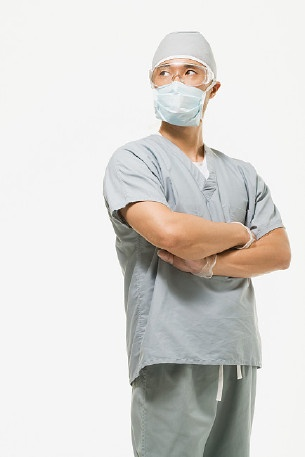Mask: (150, 60, 215, 126)
